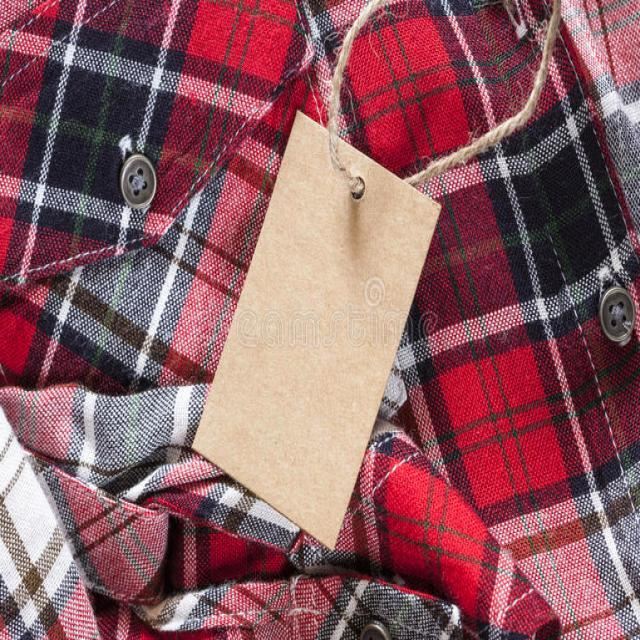clothes: (41, 26, 507, 590)
